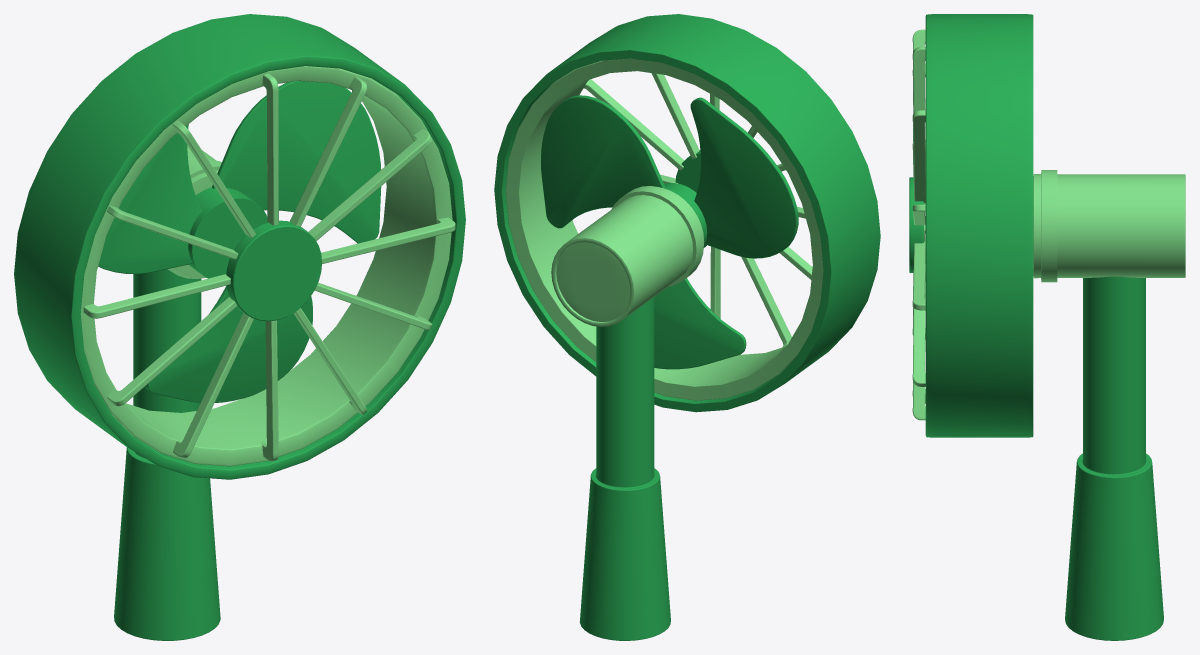
The model's file is fan.fbx.
The picture shows the model from 3 angles, left to right: view 1: azimuth 30°, elevation 25°; view 2: azimuth 150°, elevation 25°; view 3: azimuth 270°, elevation 25°; orthographic projection. The views are drawn at different scales.
Visible parts, largest first — view 1: Circle.006, Vert.003; view 2: Circle.006, Vert.003; view 3: Circle.006.
Part boxes in pixels (x1=…): Circle.006: x1=14, y1=14, x2=465, y2=640; Vert.003: x1=98, y1=81, x2=381, y2=402; Circle.006: x1=494, y1=14, x2=880, y2=640; Vert.003: x1=541, y1=95, x2=798, y2=369; Circle.006: x1=909, y1=14, x2=1185, y2=640.
Size of the model in its own units: 9.06 by 13.82 by 5.9.
